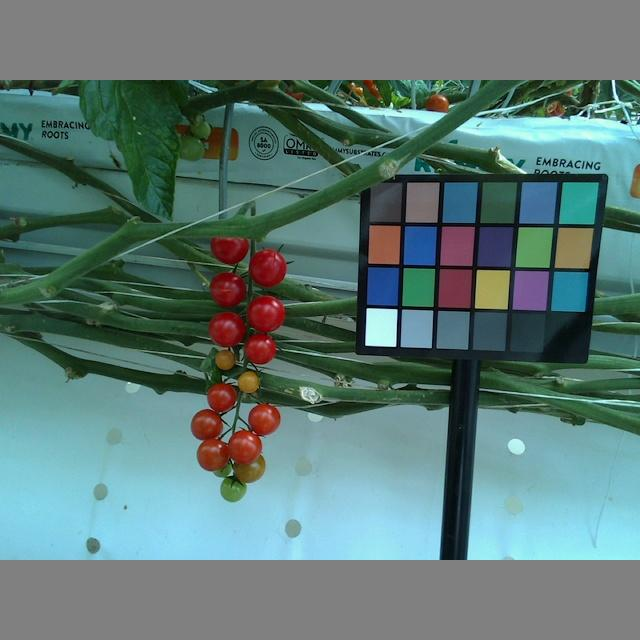green: (179, 136, 207, 164), (219, 477, 249, 503), (187, 117, 211, 138)
pink: (233, 452, 266, 483), (236, 369, 260, 395), (215, 350, 236, 371)
red: (209, 222, 248, 264), (249, 249, 289, 286), (246, 295, 286, 332), (209, 269, 246, 307), (207, 309, 244, 347), (226, 430, 264, 465), (188, 408, 224, 443), (195, 438, 232, 471), (247, 404, 283, 437), (243, 332, 276, 365), (208, 381, 239, 414)
